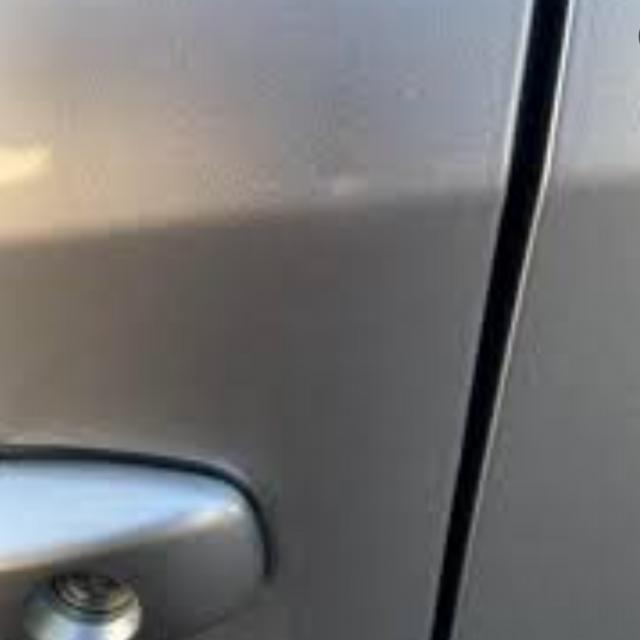dents: (302, 156, 389, 221)
